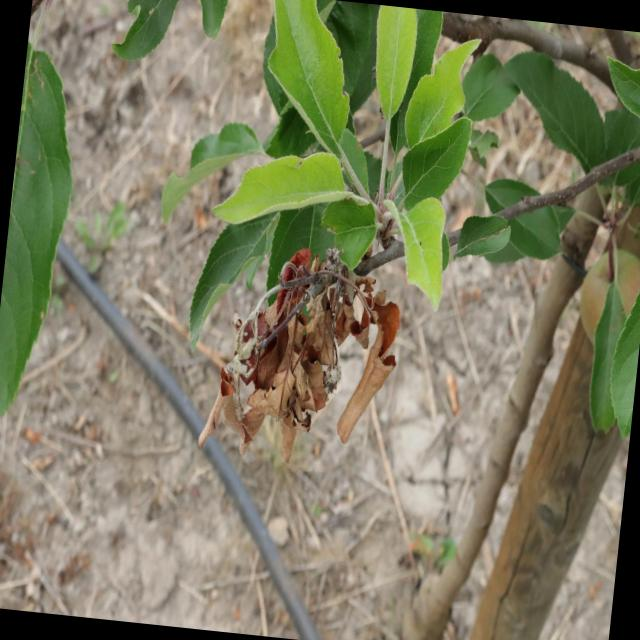-FireBlight-: (213, 240, 397, 452)
